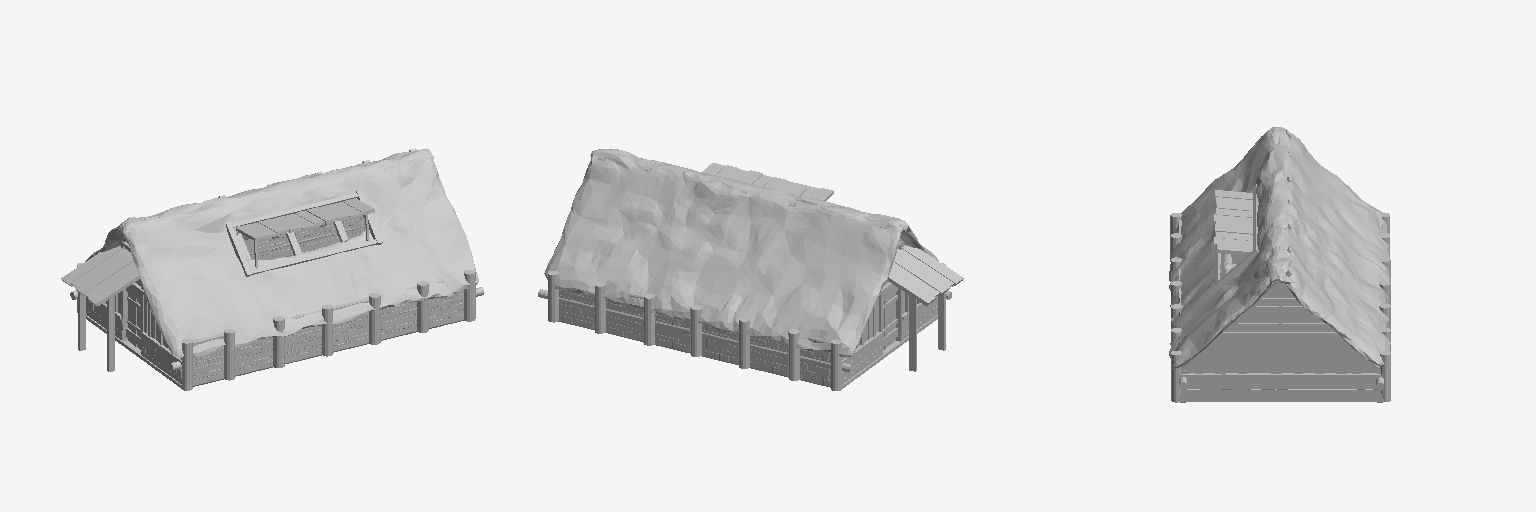
The model's file is lowpoly_viking_house_004.obj.
3 views of the same model, side by side, from view 1: azimuth 30°, elevation 25°; view 2: azimuth 150°, elevation 25°; view 3: azimuth 270°, elevation 25° (orthographic).
Parts seen in each view (by area): view 1: Plane.009, Wall.145, Cube.2575, Cube.2429, Cube.2427, Cube.2425, Cube.2421, Cube.2424, Cylinder.046, Cylinder.052, Cylinder.062, Cylinder.054 (+3 smaller); view 2: Plane.009, Wall.145, Cylinder.058, Cube.2429, Cube.2425, Cube.2427, Cube.2420, Cube.2424, Cylinder.064, Cylinder.063, Cylinder.045, Cylinder.053 (+3 smaller); view 3: Plane.009, Wall.145, Cube.1602, Cube.2575, Cube.1605, Cube.1600, Cube.1603.
Part boxes in pixels (bbox=[...]): Plane.009: bbox=[85, 149, 478, 357]; Wall.145: bbox=[86, 215, 464, 386]; Cube.2575: bbox=[226, 190, 382, 276]; Cube.2429: bbox=[126, 286, 140, 349]; Cube.2427: bbox=[75, 252, 133, 295]; Cube.2425: bbox=[88, 267, 139, 305]; Cube.2421: bbox=[107, 295, 114, 371]; Cube.2424: bbox=[61, 246, 122, 285]; Cylinder.046: bbox=[369, 293, 380, 344]; Cylinder.052: bbox=[464, 270, 475, 321]; Cylinder.062: bbox=[224, 329, 234, 380]; Cylinder.054: bbox=[182, 339, 192, 390]; Plane.009: bbox=[544, 149, 938, 357]; Wall.145: bbox=[558, 288, 937, 387]; Cylinder.058: bbox=[538, 289, 853, 372]; Cube.2429: bbox=[883, 285, 897, 349]; Cube.2425: bbox=[902, 245, 963, 285]; Cube.2427: bbox=[894, 253, 949, 294]; Cube.2420: bbox=[909, 294, 916, 371]; Cube.2424: bbox=[888, 269, 935, 305]; Cylinder.064: bbox=[690, 305, 701, 356]; Cylinder.063: bbox=[788, 329, 799, 380]; Cylinder.045: bbox=[595, 282, 605, 333]; Cylinder.053: bbox=[831, 339, 841, 390]; Plane.009: bbox=[1169, 127, 1390, 368]; Wall.145: bbox=[1178, 220, 1383, 402]; Cube.1602: bbox=[1179, 373, 1382, 378]; Cube.2575: bbox=[1214, 184, 1258, 289]; Cube.1605: bbox=[1179, 399, 1383, 401]; Cube.1600: bbox=[1223, 332, 1338, 336]; Cube.1603: bbox=[1181, 269, 1291, 373].
Size of the model in its own units: 7.07 by 2.53 by 3.83.